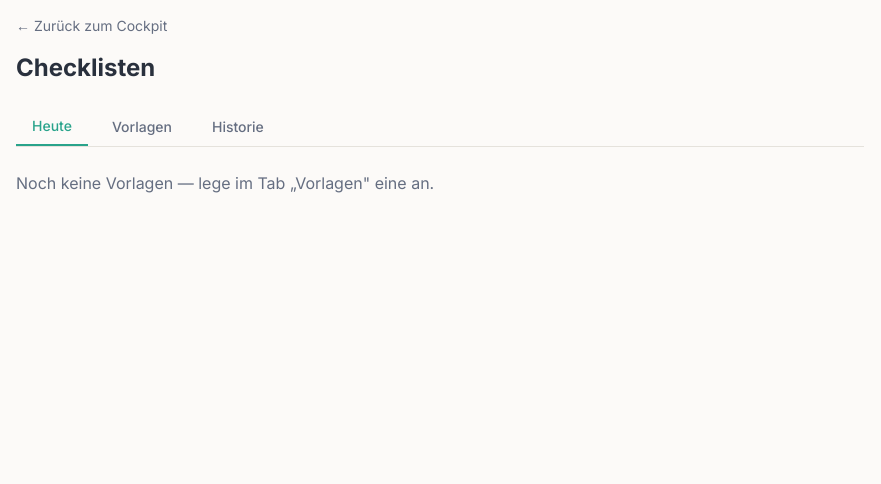
ChecklistModule › shows the Vorlagen tab with the editor + a back link
Check: the link "← Zurück zum Cockpit" is shown, box x1=16 y1=16 x2=167 y2=36
Click the tab "Vorlagen" at (142, 127), box x1=96 y1=108 x2=188 y2=146
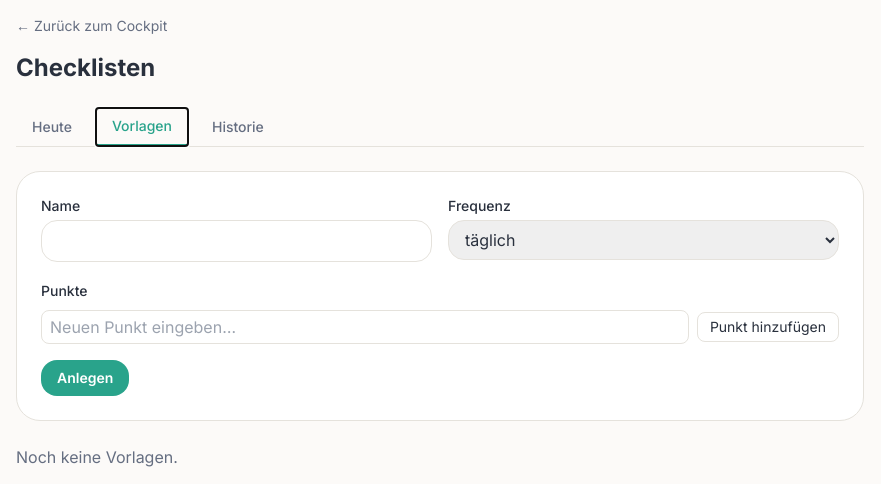
Check: the text "Noch keine Vorlagen." is shown, box x1=16 y1=447 x2=178 y2=467
Check: the button "Anlegen" is shown, box x1=41 y1=360 x2=129 y2=396
